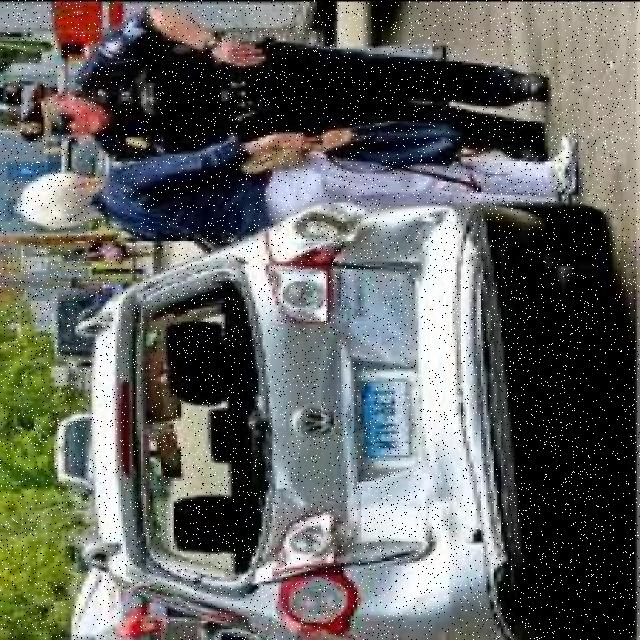damage: (114, 199, 504, 615)
